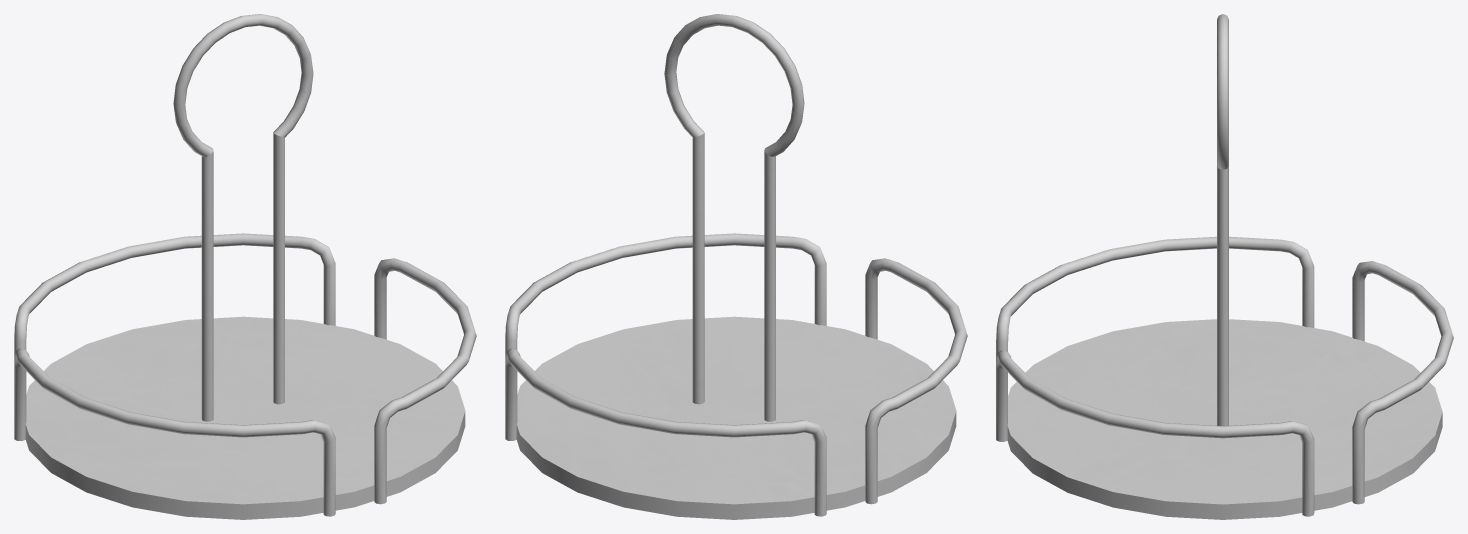
Rendered from Stand.fbx.
The picture shows the model from 3 angles, left to right: view 1: azimuth 30°, elevation 25°; view 2: azimuth 150°, elevation 25°; view 3: azimuth 270°, elevation 25°; orthographic projection.
Visible parts, largest first — view 1: Stand; view 2: Stand; view 3: Stand.
Boxes of the visible parts, <box> form: Stand: <box>14,14,476,519</box>; Stand: <box>505,14,967,519</box>; Stand: <box>996,14,1453,519</box>.
Size of the model in its own units: 18.92 by 18.36 by 18.76.
